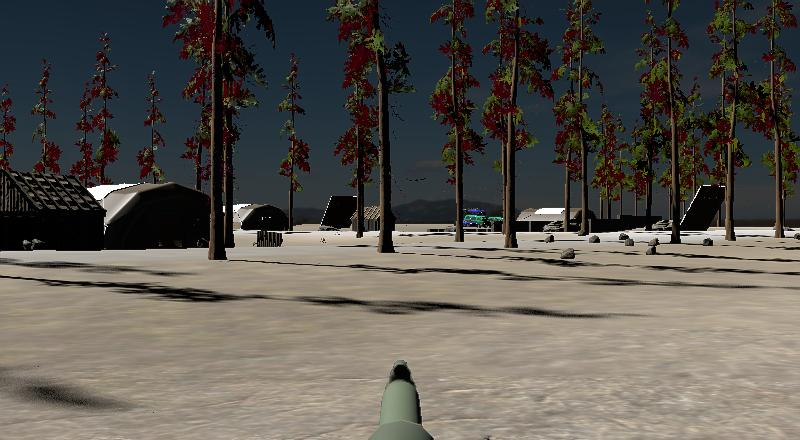House: (0, 166, 107, 252), (348, 204, 399, 235)
car: (460, 207, 488, 226), (457, 213, 489, 229)
